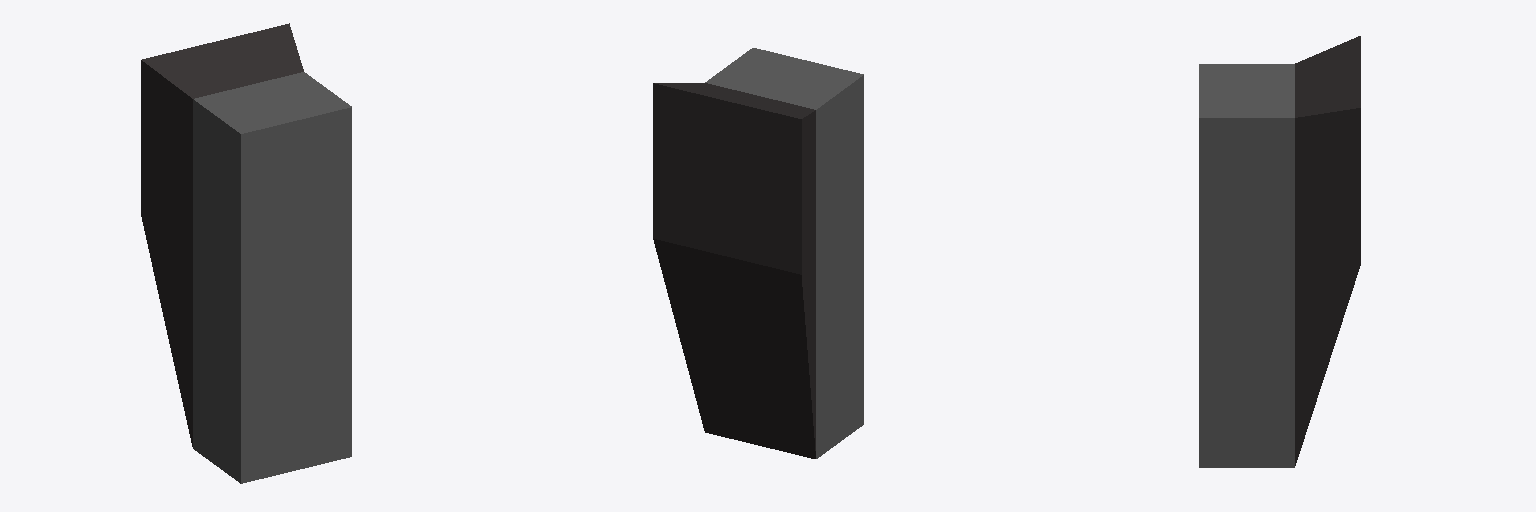
The model's file is buttonBasic.obj.
3 views of the same model, side by side, from view 1: azimuth 30°, elevation 25°; view 2: azimuth 150°, elevation 25°; view 3: azimuth 270°, elevation 25° (orthographic).
Visible parts, largest first — view 1: buttonBasic; view 2: buttonBasic; view 3: buttonBasic.
Boxes of the visible parts, x1,y1,x2,y2 form: buttonBasic: [141, 23, 351, 483]; buttonBasic: [653, 48, 863, 458]; buttonBasic: [1199, 36, 1360, 467].
Size of the model in its own units: 0.5 by 1.19 by 0.475.